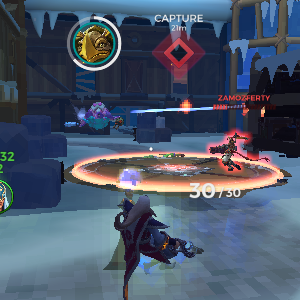model: (214, 125, 246, 171)
